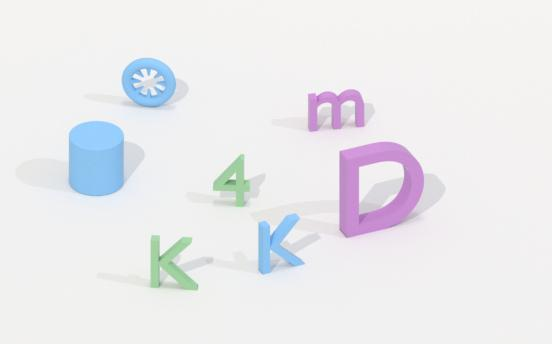4: (211, 150, 253, 210)
d: (335, 139, 427, 241)
k: (256, 209, 307, 279), (148, 231, 200, 296)
m: (305, 87, 367, 137)
tron: (120, 53, 179, 110)
tru: (62, 118, 131, 198)
